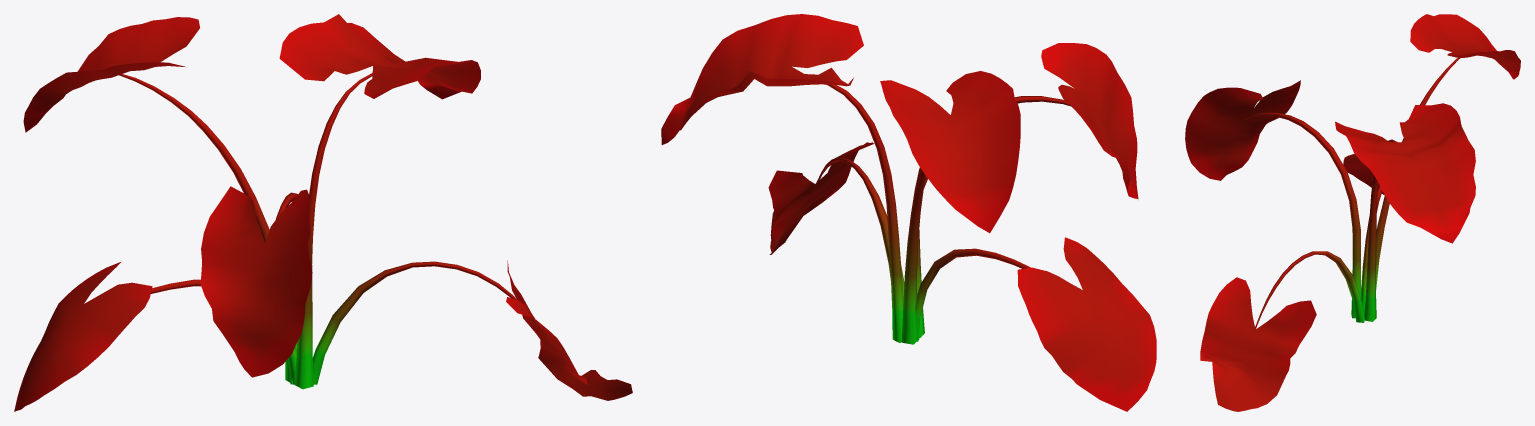
File: F01_Taro_05.fbx
The picture shows the model from 3 angles, left to right: view 1: azimuth 30°, elevation 25°; view 2: azimuth 150°, elevation 25°; view 3: azimuth 270°, elevation 25°; orthographic projection. The views are drawn at different scales.
Visible parts, largest first — view 1: _7207_Var5_LOD0; view 2: _7207_Var5_LOD0; view 3: _7207_Var5_LOD0.
Boxes of the visible parts, x1,y1,x2,y2 form: _7207_Var5_LOD0: [14, 14, 632, 411]; _7207_Var5_LOD0: [661, 14, 1156, 411]; _7207_Var5_LOD0: [1185, 14, 1520, 411].
Size of the model in its own units: 164 by 106 by 124.
